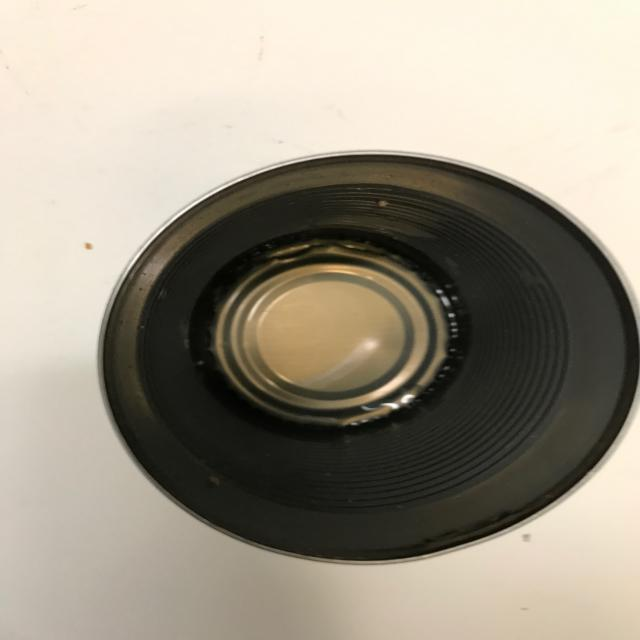metal: (98, 149, 640, 567)
